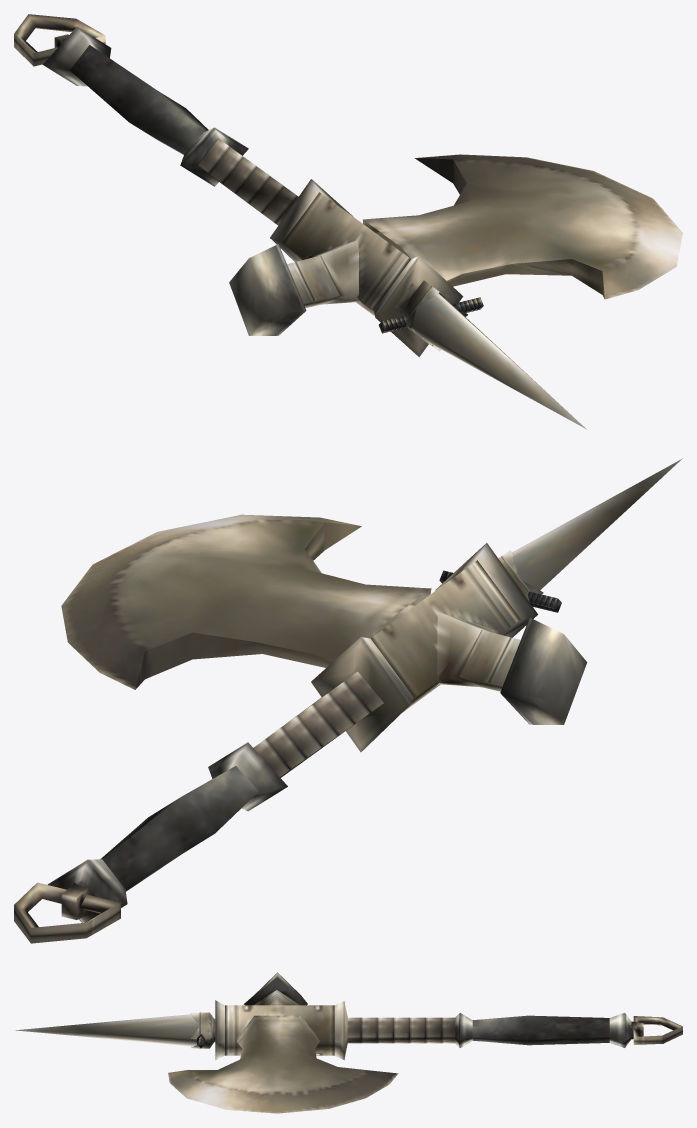
File: we126_amh.OBJ
3 views of the same model, one above another, from view 1: azimuth 30°, elevation 25°; view 2: azimuth 150°, elevation 25°; view 3: azimuth 270°, elevation 25° (orthographic). The views are drawn at different scales.
Visible parts, largest first — view 1: mesh_0, mesh_1; view 2: mesh_0, mesh_1; view 3: mesh_0, mesh_1.
Part boxes in pixels (x1,y1,x2,y2): mesh_0: [14, 14, 682, 429]; mesh_1: [36, 27, 651, 308]; mesh_0: [14, 458, 682, 943]; mesh_1: [62, 524, 585, 922]; mesh_0: [15, 974, 682, 1113]; mesh_1: [195, 972, 660, 1112].
Size of the model in its own units: 47.41 by 11.02 by 110.
Materials: 1 (1 with a texture image).
